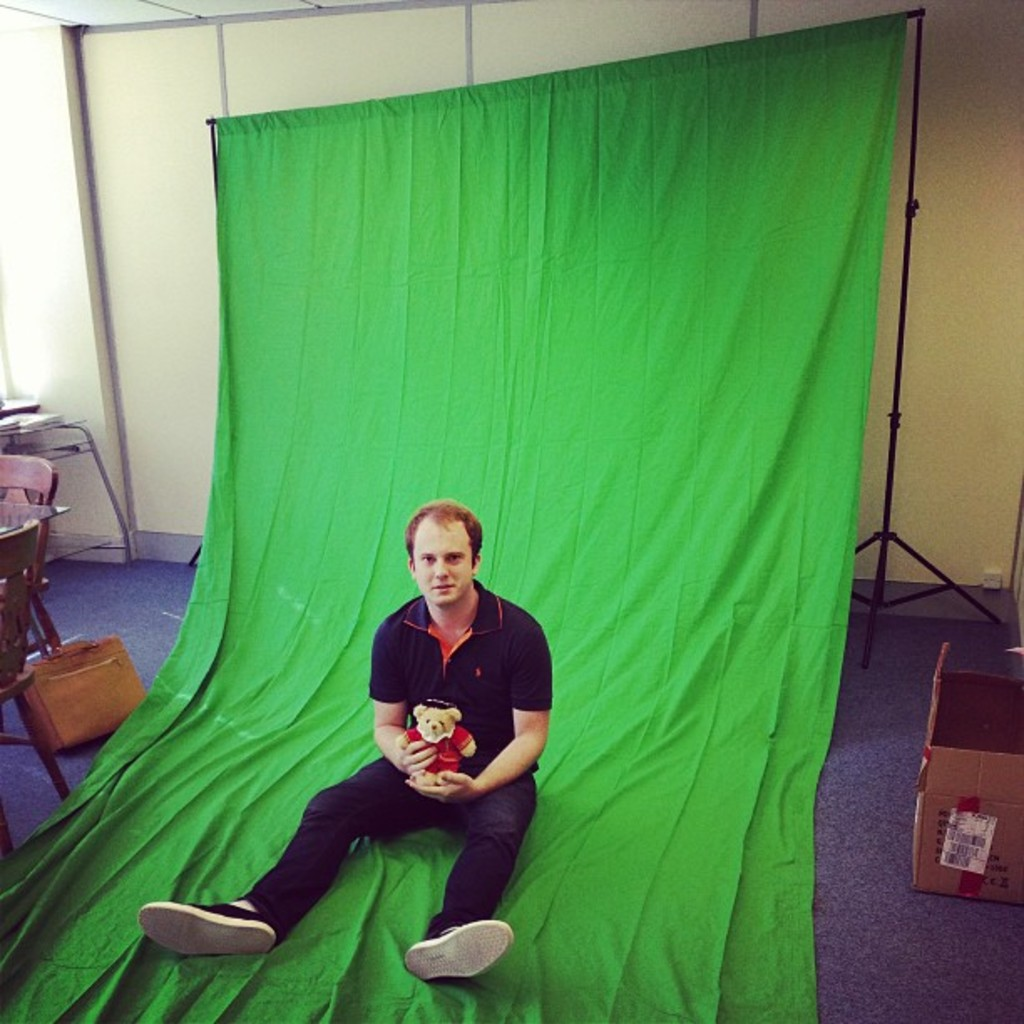Footwear: (134, 875, 291, 980), (412, 924, 514, 977)
